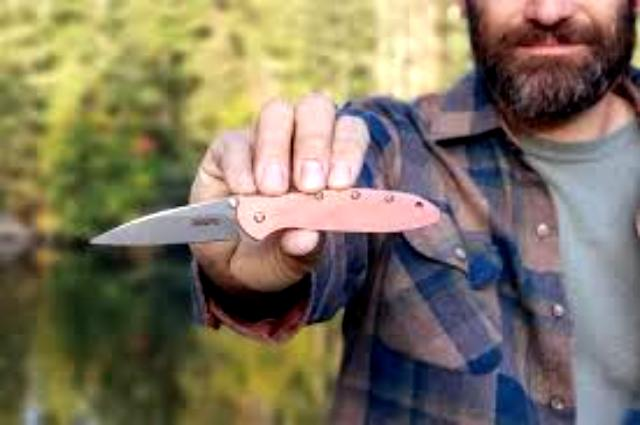pocket-knife: (72, 184, 442, 256)
